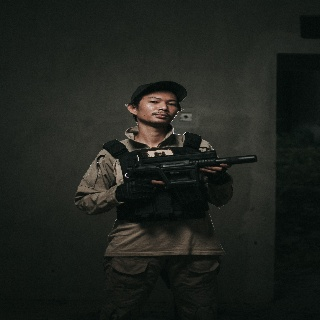rifle: (123, 149, 260, 205)
